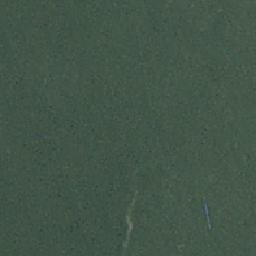debris: (123, 190, 137, 241)
